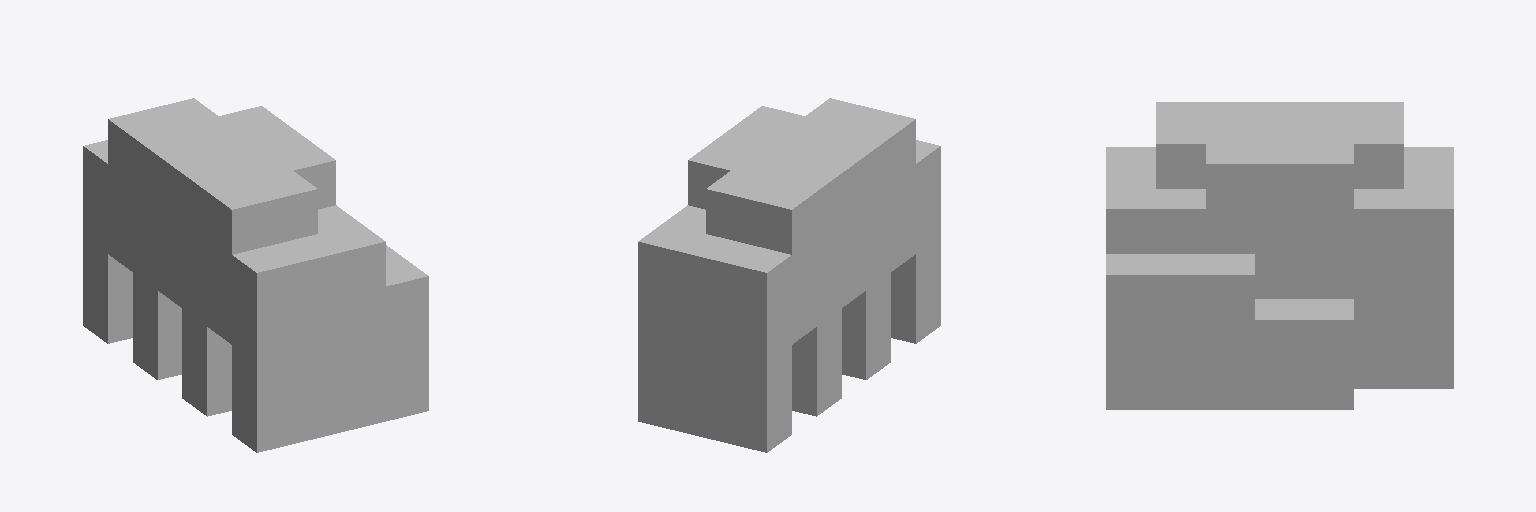
File: dwarfhand.obj
3 renders of one model, left to right at view 1: azimuth 30°, elevation 25°; view 2: azimuth 150°, elevation 25°; view 3: azimuth 270°, elevation 25°, orthographic.
Parts seen in each view (by area): view 1: Dwarf; view 2: Dwarf; view 3: Dwarf.
Boxes of the visible parts, <box> form: Dwarf: <box>83,98,428,452</box>; Dwarf: <box>638,98,940,452</box>; Dwarf: <box>1106,102,1453,409</box>.
Bounding box in the file's own units: 4 × 5 × 7.